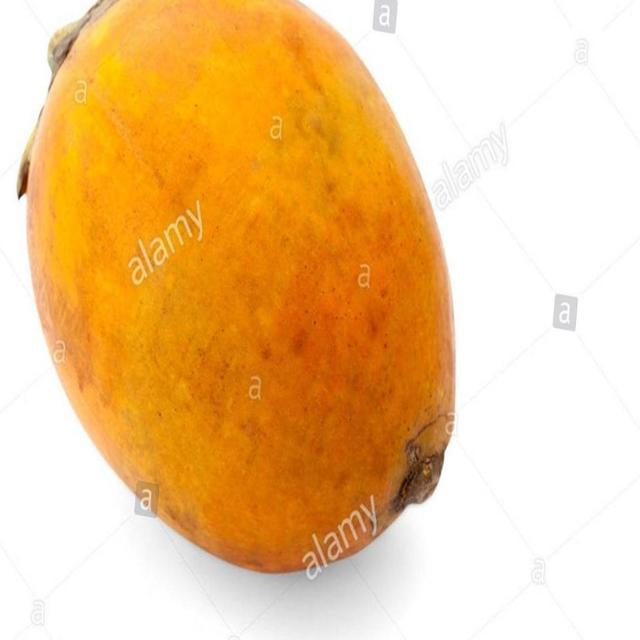good: (18, 0, 458, 577)
